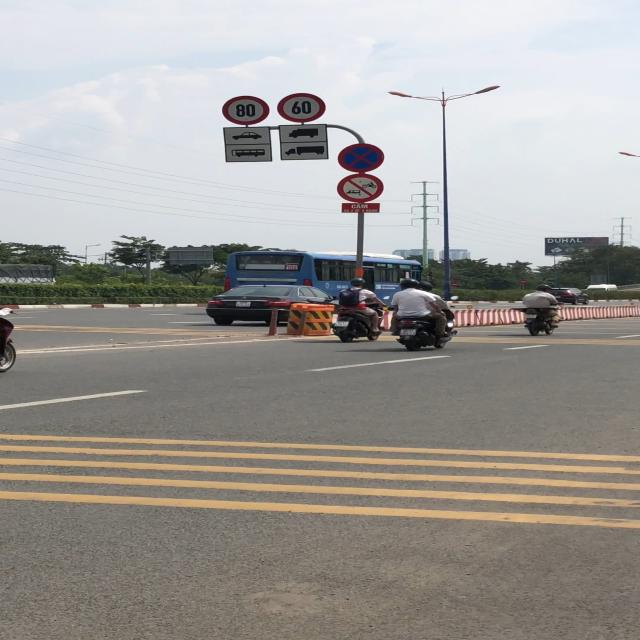Bien bao cam dung xe va do xe: (336, 143, 386, 173)
Bien bao toc do toi da cho phep: (220, 96, 272, 126), (278, 93, 327, 122)
